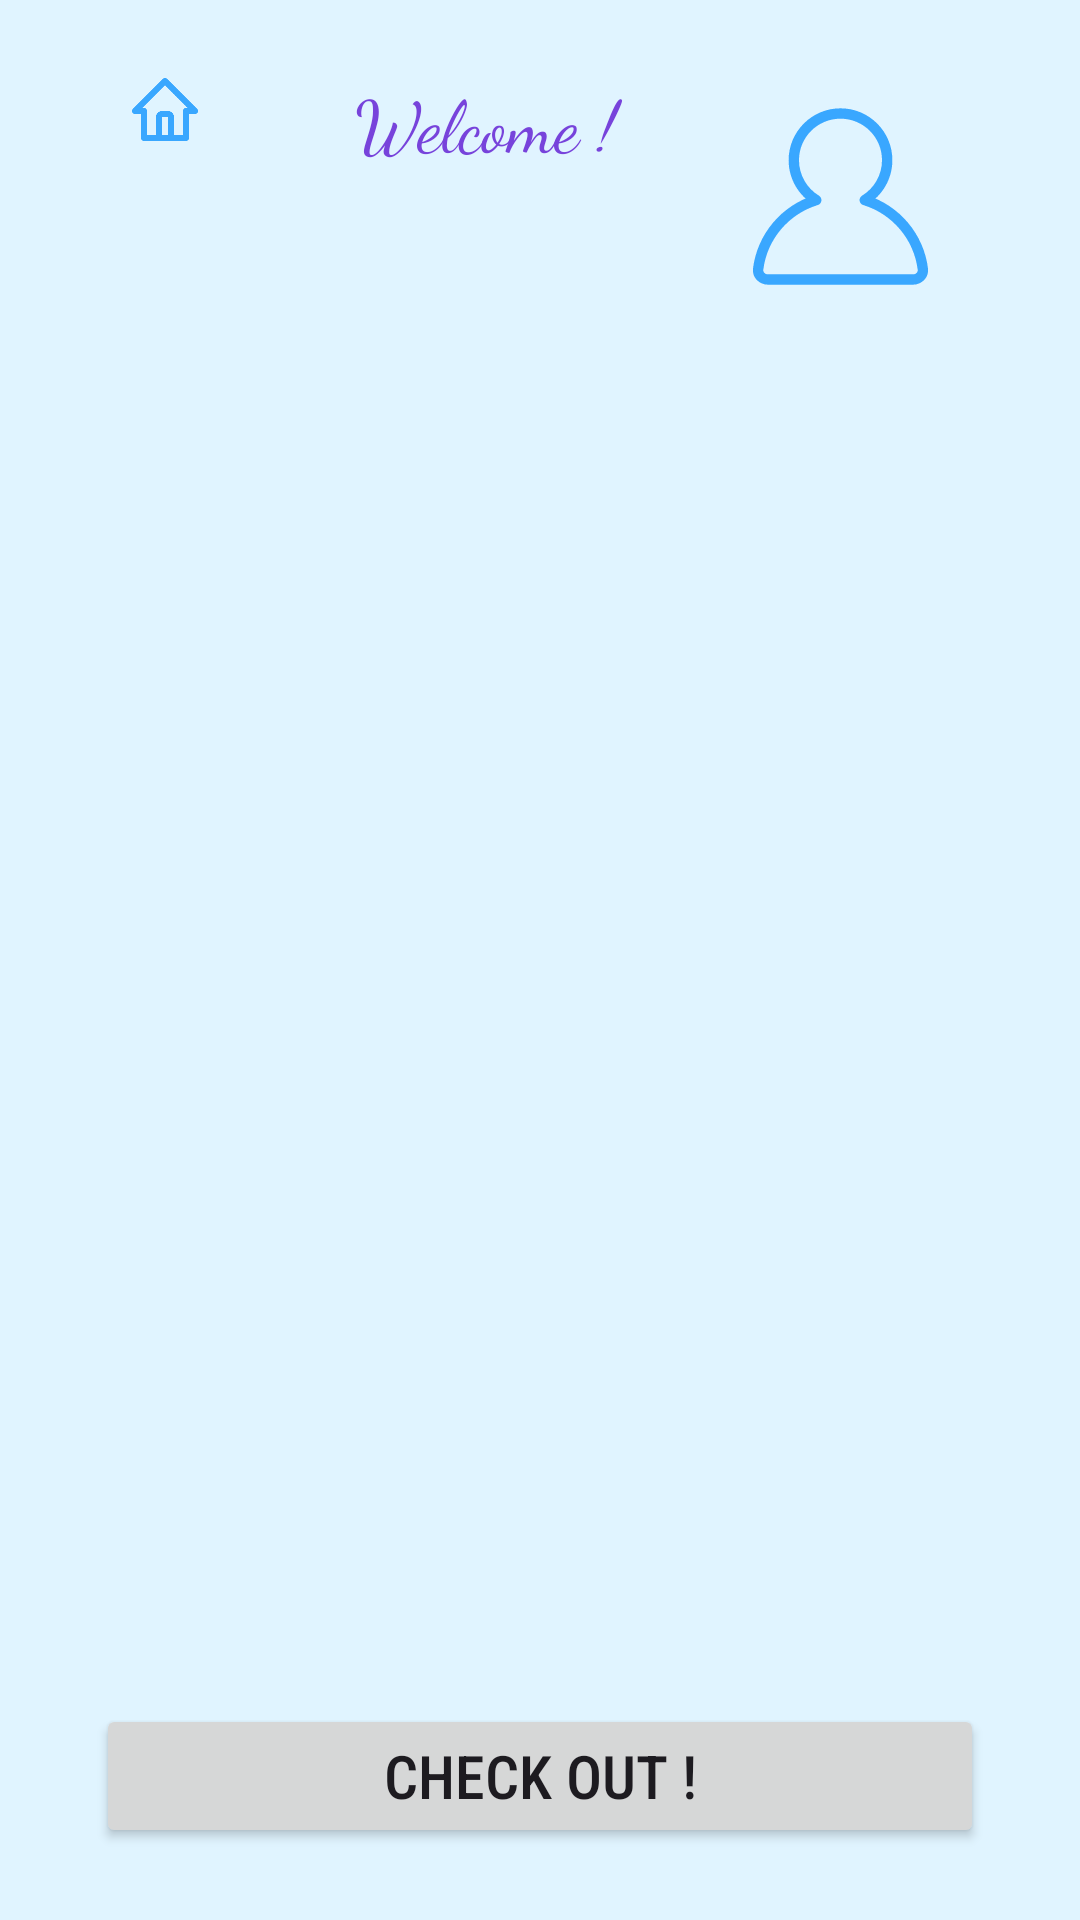

Icon bounding boxes for this 1080w x 1920h phone screenshot, format (x1, y1, x2, y2):
home: (132, 78, 198, 141)
profile: (753, 108, 928, 285)
